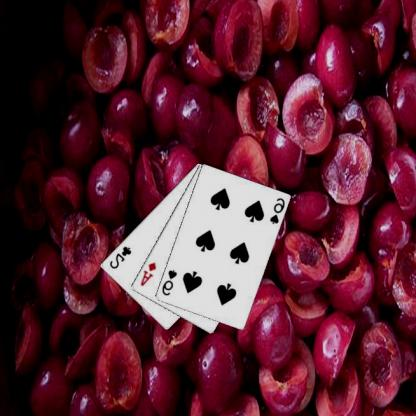2C: (108, 244, 134, 270)
6S: (268, 195, 288, 225), (161, 267, 180, 297)
AD: (139, 260, 159, 288)
